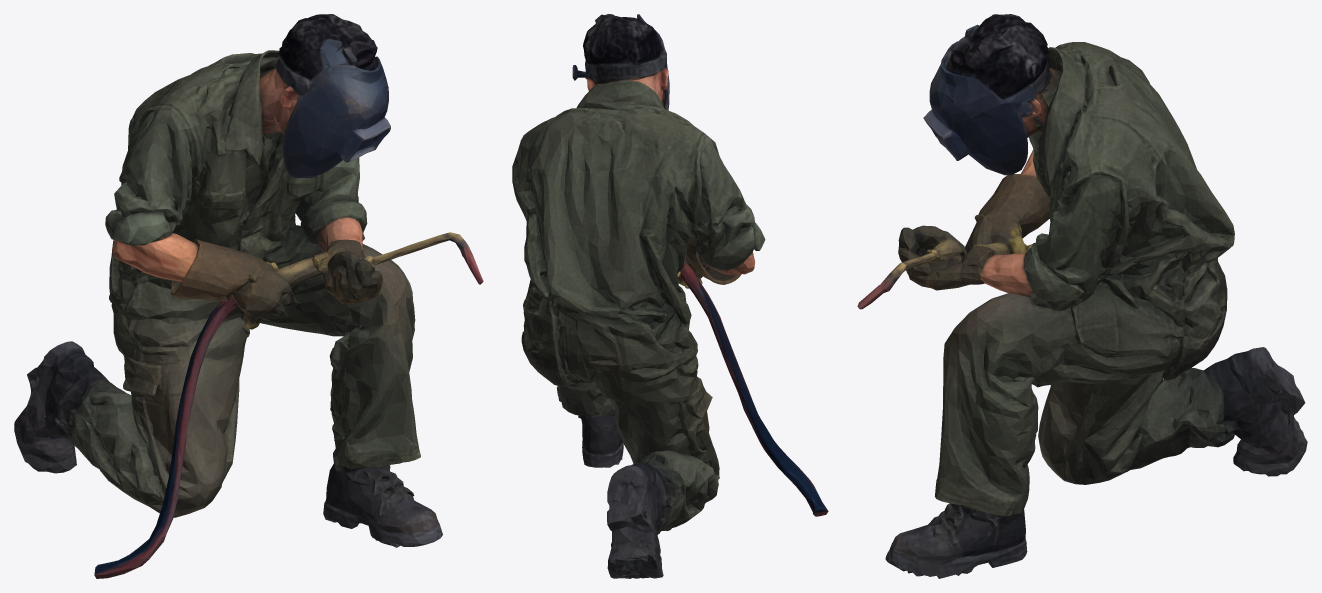
File: mechanic.glb
3 renders of one model, left to right at view 1: azimuth 30°, elevation 25°; view 2: azimuth 150°, elevation 25°; view 3: azimuth 270°, elevation 25°, orthographic. The views are drawn at different scales.
Parts seen in each view (by area): view 1: geometry_0; view 2: geometry_0; view 3: geometry_0.
Boxes of the visible parts, x1,y1,x2,y2 form: geometry_0: (14,14,483,578); geometry_0: (512,14,828,578); geometry_0: (857,14,1307,578).
Bounding box in the file's own units: 0.6656 × 1 × 0.7792.
Materials: 1 (1 with a texture image).
